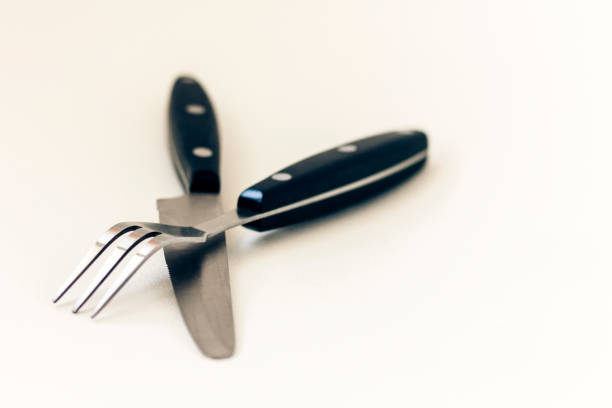knife: (153, 69, 242, 361)
